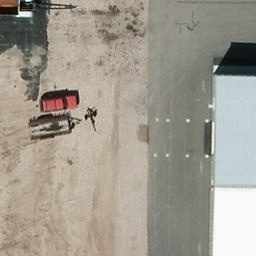car: (39, 93, 81, 113)
